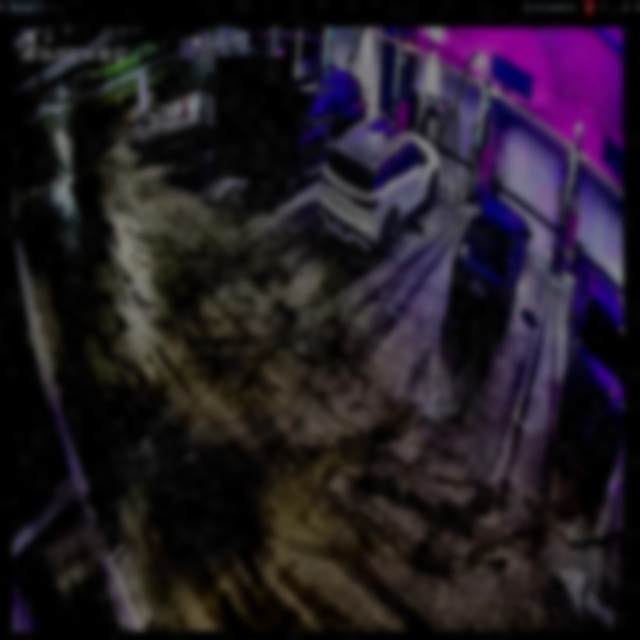Car: (318, 118, 440, 253), (242, 67, 367, 192), (444, 190, 535, 332)
